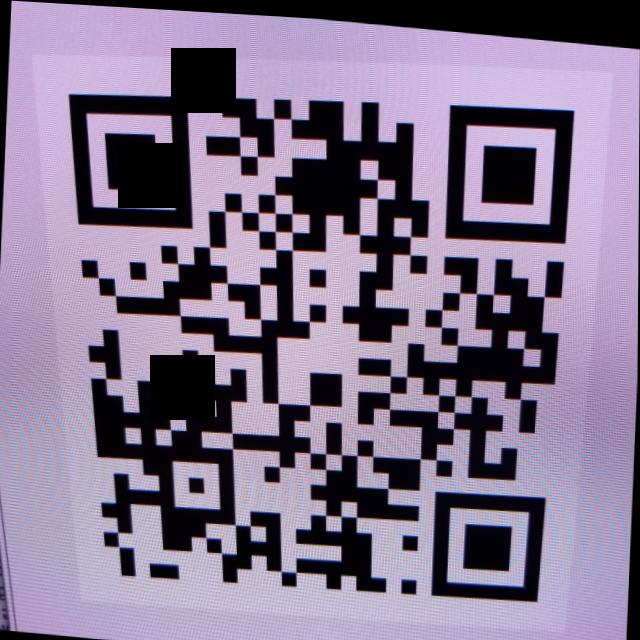QR_CODE: (36, 30, 607, 631)
